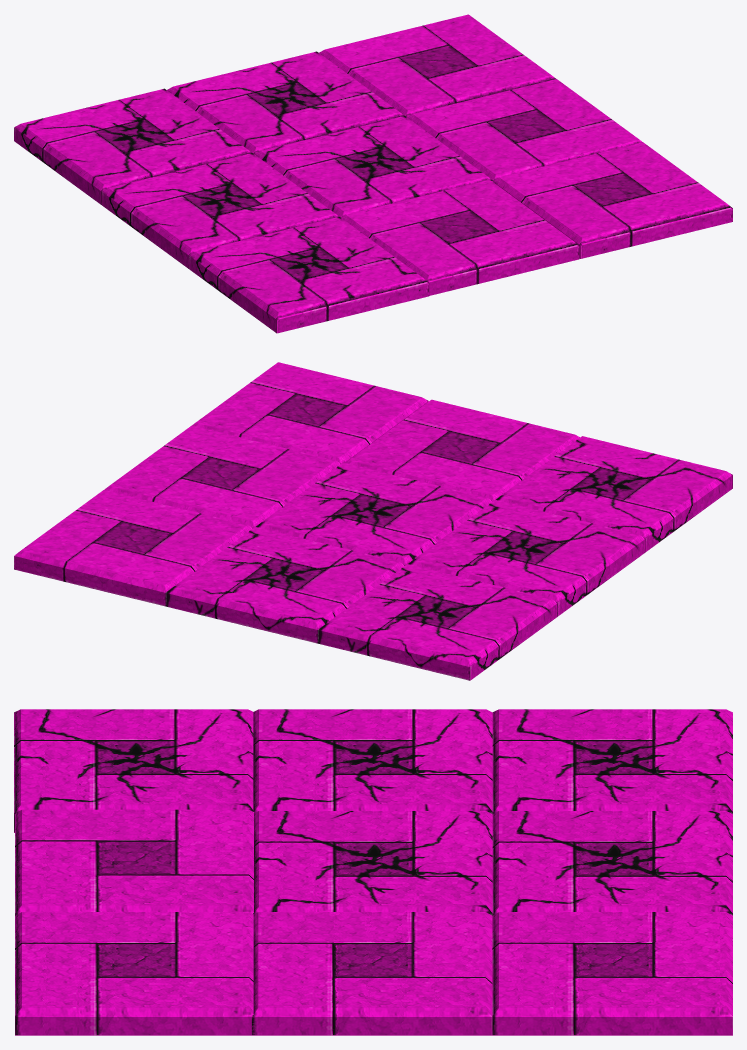
Rendered from floor.fbx.
The picture shows the model from 3 angles, top to bottom: view 1: azimuth 30°, elevation 25°; view 2: azimuth 150°, elevation 25°; view 3: azimuth 270°, elevation 25°; orthographic projection. The views are drawn at different scales.
Visible parts, largest first — view 1: pCube9, pCube7, pCube8, pCube5, pCube6, pCube1, pCube2, pCube4, pCube3; view 2: pCube5, pCube1, pCube2, pCube6, pCube9, pCube4, pCube3, pCube7, pCube8; view 3: pCube2, pCube3, pCube7, pCube8, pCube5, pCube6, pCube1, pCube9, pCube4.
Part boxes in pixels (left/top/right/bottom): pCube9: left=189, top=216, right=429, bottom=333; pCube7: left=493, top=142, right=732, bottom=258; pCube8: left=341, top=179, right=579, bottom=295; pCube5: left=14, top=88, right=251, bottom=204; pCube6: left=102, top=153, right=338, bottom=268; pCube1: left=167, top=51, right=404, bottom=153; pCube2: left=319, top=14, right=555, bottom=116; pCube4: left=254, top=115, right=493, bottom=217; pCube3: left=407, top=79, right=642, bottom=180; pCube5: left=317, top=564, right=558, bottom=680; pCube1: left=165, top=527, right=405, bottom=643; pCube2: left=14, top=490, right=252, bottom=606; pCube6: left=408, top=500, right=645, bottom=616; pCube9: left=496, top=436, right=732, bottom=551; pCube4: left=256, top=462, right=492, bottom=565; pCube3: left=104, top=425, right=340, bottom=527; pCube7: left=192, top=362, right=428, bottom=463; pCube8: left=345, top=399, right=579, bottom=501; pCube2: left=492, top=912, right=732, bottom=1035; pCube3: left=251, top=912, right=492, bottom=1035; pCube7: left=15, top=912, right=255, bottom=1035; pCube8: left=15, top=809, right=254, bottom=914; pCube5: left=492, top=709, right=732, bottom=813; pCube6: left=253, top=709, right=492, bottom=813; pCube1: left=492, top=811, right=732, bottom=915; pCube9: left=14, top=709, right=253, bottom=832; pCube4: left=253, top=811, right=492, bottom=915.
Bounding box in the file's own units: 176 × 6.71 × 176.
